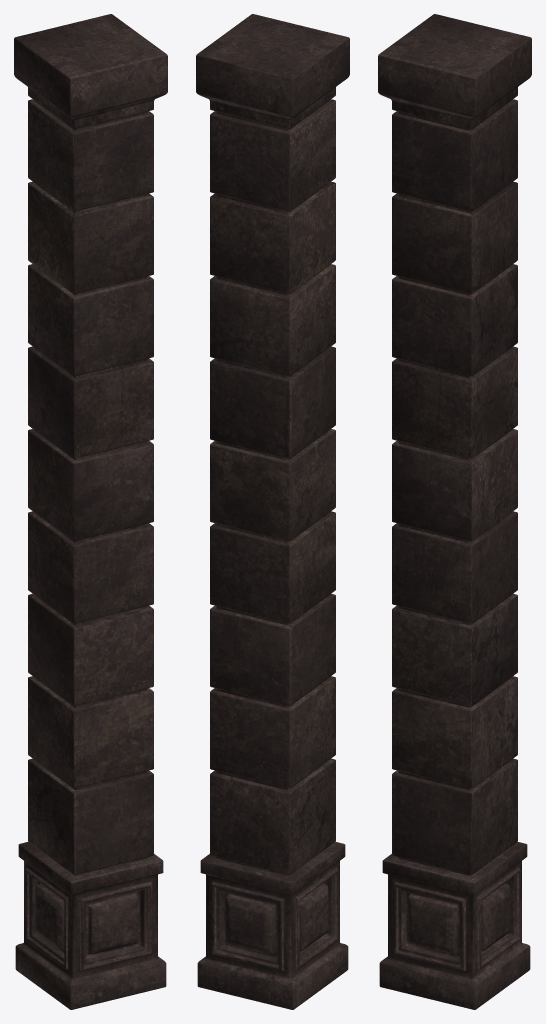
The model's file is SK2 PILLAR1.fbx.
3 views of the same model, side by side, from view 1: azimuth 30°, elevation 25°; view 2: azimuth 150°, elevation 25°; view 3: azimuth 330°, elevation 25° (orthographic).
Parts seen in each view (by area): view 1: SK2 PILLAR1.030; view 2: SK2 PILLAR1.030; view 3: SK2 PILLAR1.030.
Boxes of the visible parts, <box> form: SK2 PILLAR1.030: <box>14,14,167,1009</box>; SK2 PILLAR1.030: <box>196,14,349,1009</box>; SK2 PILLAR1.030: <box>378,14,531,1009</box>.
Size of the model in its own units: 44.12 by 400 by 44.12.
